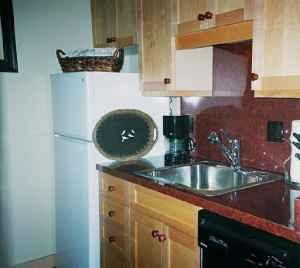Electrodomestico: (47, 72, 100, 266), (197, 208, 299, 266)
Lavaplatos: (130, 129, 282, 197)
